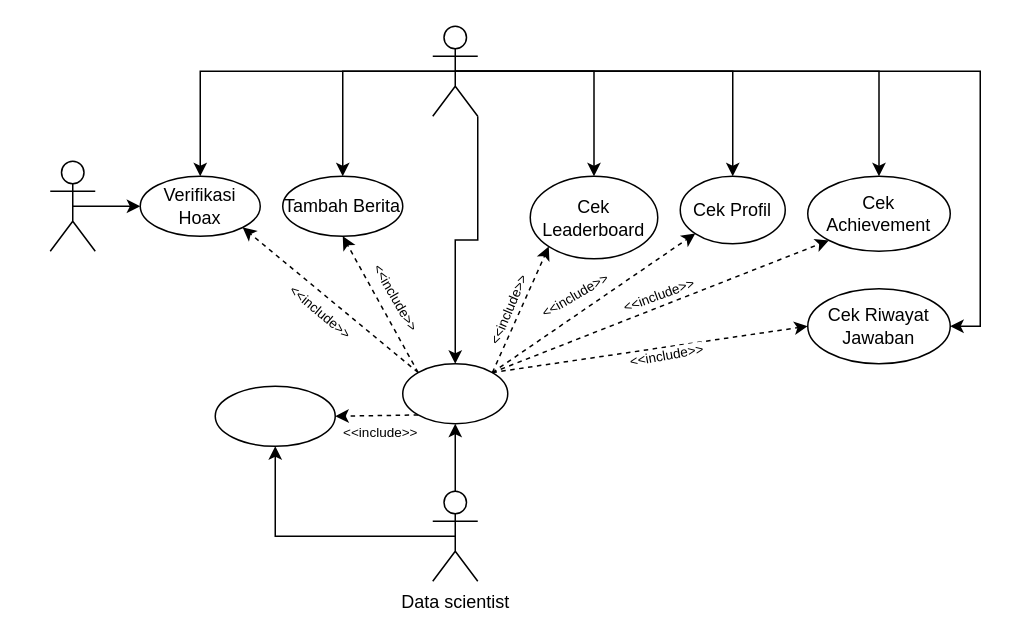
Image size: 1019x639. Some labels were removed from this diagram. The centre of each missing label's shape, as x and y in pixels:
"Ambil Data" belongs at point 274,415.
"Login" belongs at point 454,393.
"Pengguna" belongs at point 454,70.
"Web Developer" belongs at point 72,205.
